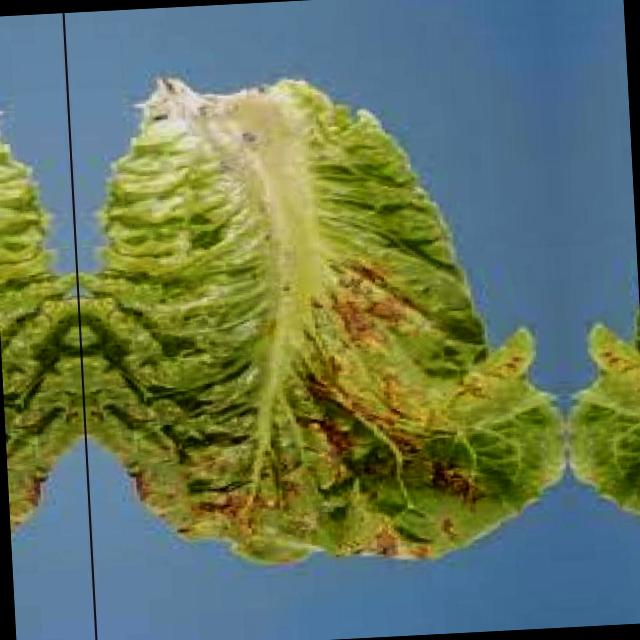healthy: (67, 51, 572, 572), (546, 46, 640, 547), (0, 75, 93, 576)
